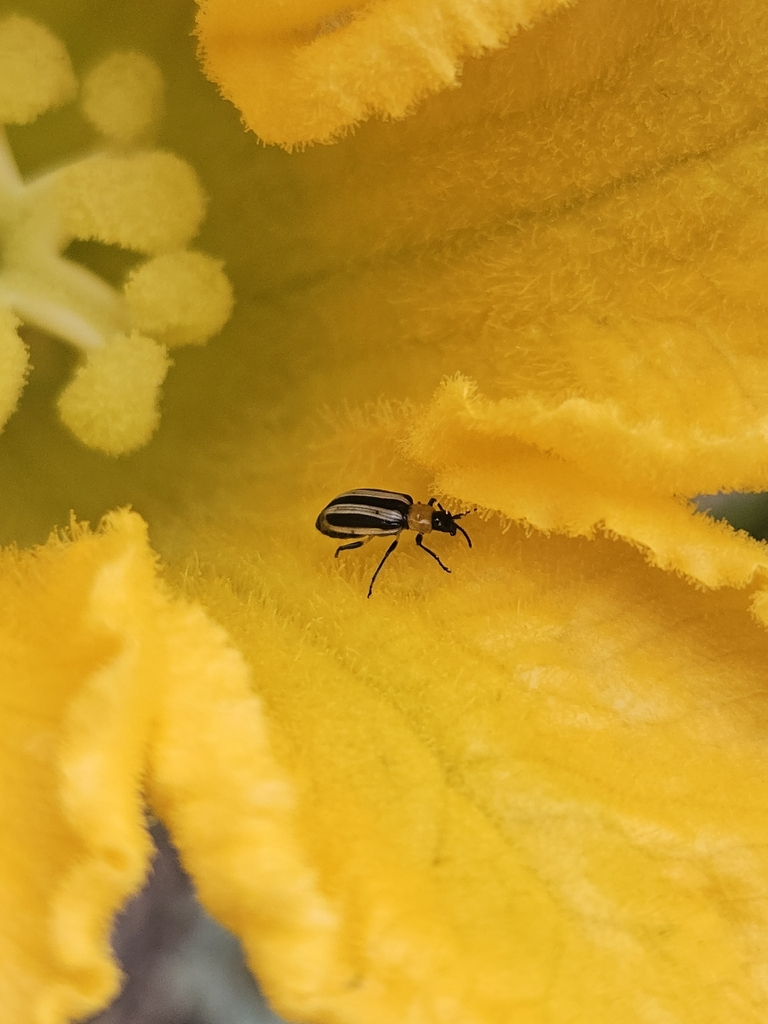potato_beetle: (265, 433, 518, 635)
